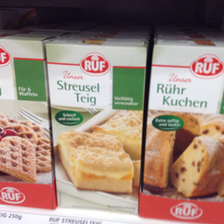cake: (43, 37, 144, 213), (142, 37, 224, 199)
